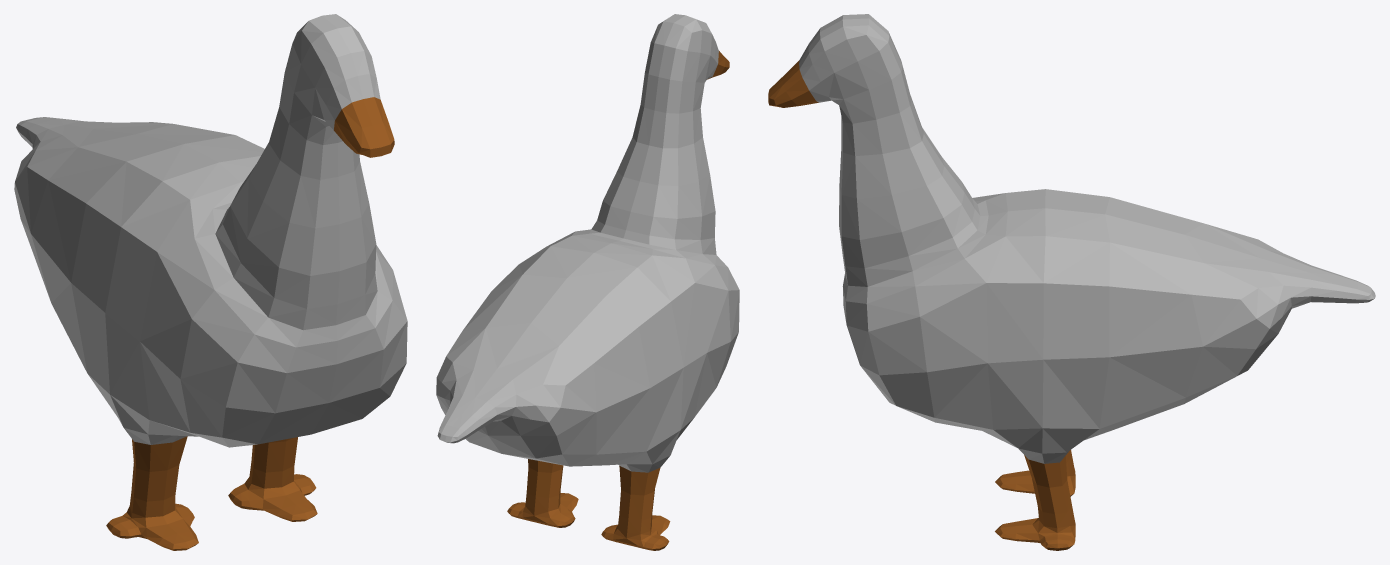
File: Goose.fbx
3 renders of one model, left to right at view 1: azimuth 30°, elevation 25°; view 2: azimuth 150°, elevation 25°; view 3: azimuth 270°, elevation 25°, orthographic. The views are drawn at different scales.
Visible parts, largest first — view 1: Cube; view 2: Cube; view 3: Cube.
Boxes of the visible parts, bbox=[...] form: Cube: bbox=[14, 14, 407, 550]; Cube: bbox=[436, 14, 739, 550]; Cube: bbox=[768, 14, 1375, 550].
Size of the model in its own units: 188 by 453 by 505.
